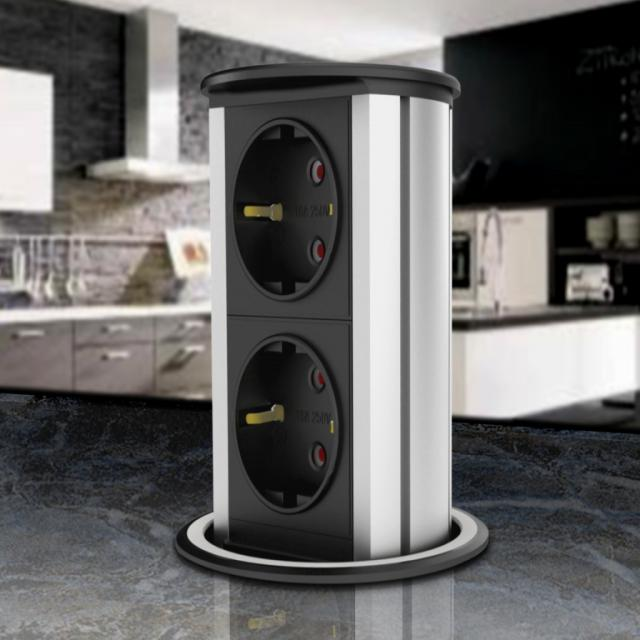typeb: (159, 67, 445, 602)
